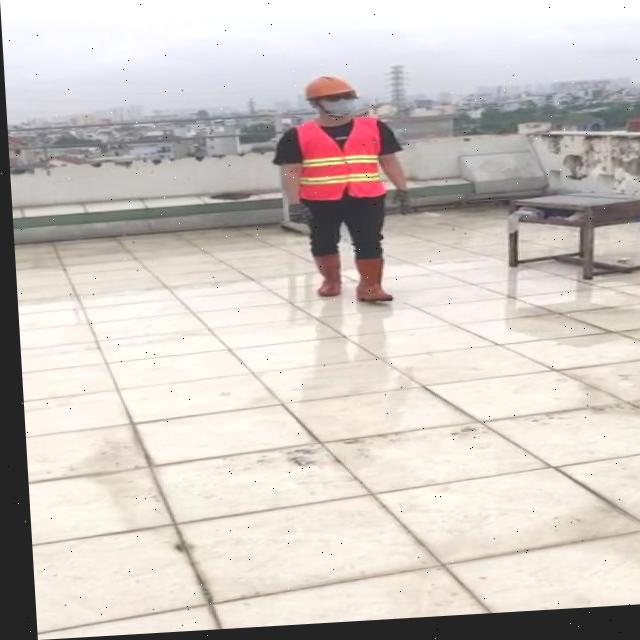Gloves: (392, 193, 409, 220)
Helmet: (302, 78, 356, 105)
Safety-Boot: (349, 260, 389, 307), (309, 255, 338, 300)
Safety-Vest: (291, 119, 383, 207)
